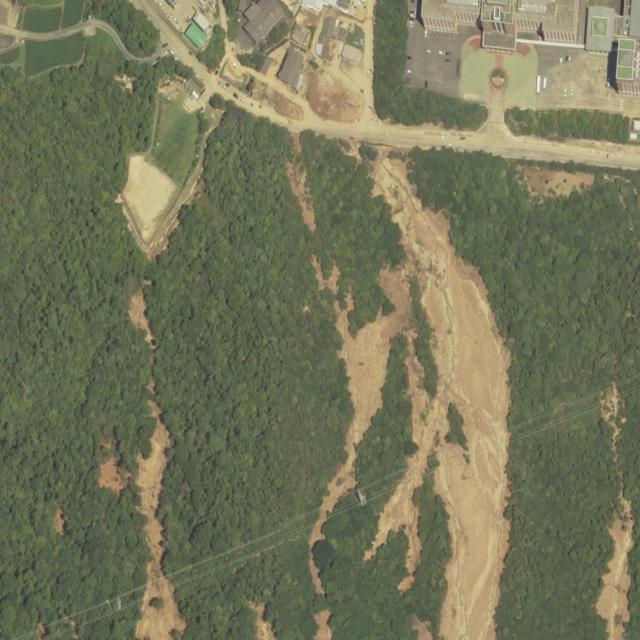landslide: (309, 150, 512, 640), (99, 401, 186, 640)
